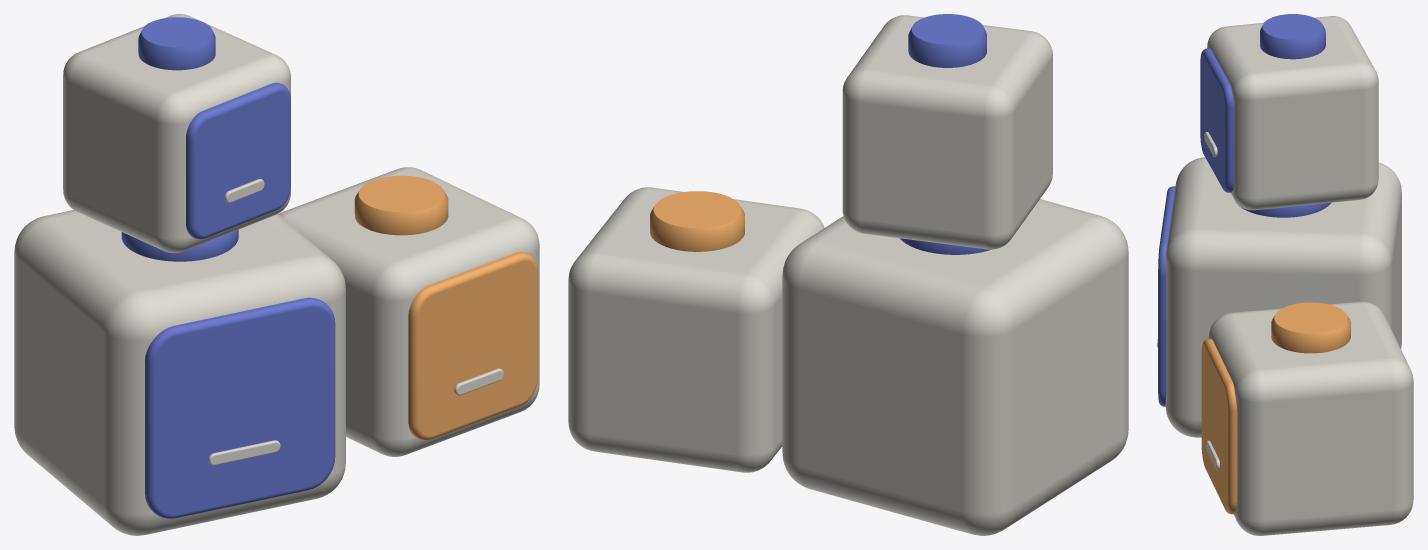
Rendered from blocks.glb.
3 views of the same model, side by side, from view 1: azimuth 30°, elevation 25°; view 2: azimuth 150°, elevation 25°; view 3: azimuth 270°, elevation 25° (orthographic). The views are drawn at different scales.
Visible parts, largest first — view 1: blocks; view 2: blocks; view 3: blocks.
Boxes of the visible parts, box(x1,y1,x2,y2) form: blocks: box(14, 14, 539, 535); blocks: box(568, 14, 1128, 535); blocks: box(1157, 14, 1413, 535).
Size of the model in its own units: 2 by 1.83 by 1.13.
